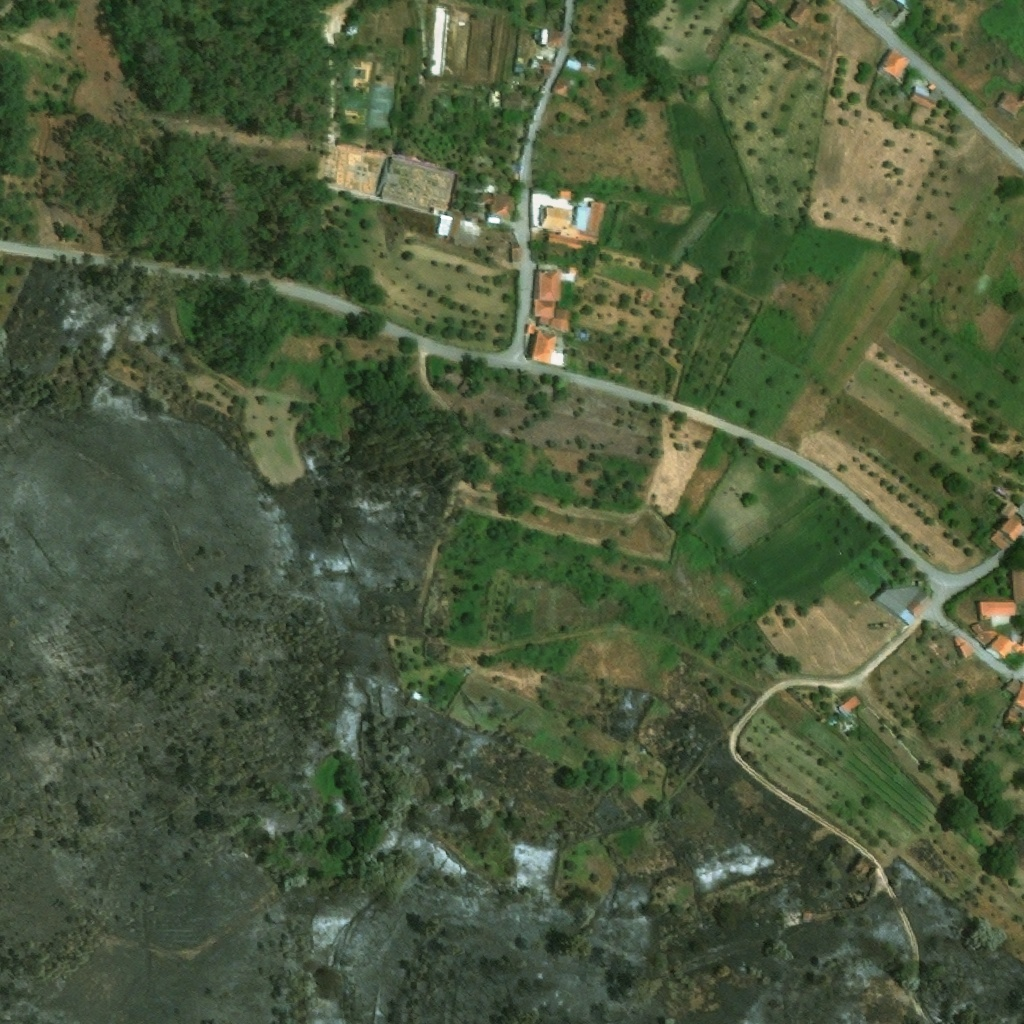0 no-damage: (540, 205, 602, 244), (533, 270, 571, 332), (873, 584, 926, 628), (528, 326, 566, 366), (1002, 677, 1023, 732), (484, 191, 518, 222), (986, 633, 1023, 661), (880, 49, 912, 81), (979, 601, 1017, 627), (549, 234, 601, 253), (1000, 501, 1023, 542), (891, 0, 920, 30), (909, 587, 936, 618), (998, 93, 1023, 122), (971, 623, 998, 648), (589, 202, 606, 238), (553, 74, 577, 99), (790, 0, 814, 24), (991, 529, 1015, 553), (839, 694, 864, 717), (447, 211, 468, 237), (504, 89, 525, 111), (911, 93, 937, 109), (956, 640, 975, 660), (1012, 569, 1023, 603), (548, 30, 565, 49), (488, 89, 503, 108), (565, 58, 583, 73), (914, 85, 932, 99), (344, 23, 359, 38), (512, 247, 525, 263), (536, 29, 549, 44), (466, 212, 481, 224), (562, 272, 577, 282), (559, 190, 573, 200), (543, 68, 553, 79), (531, 60, 542, 69), (514, 65, 526, 71), (929, 84, 937, 91), (582, 333, 589, 339)
3 destroyed: (852, 856, 880, 883), (787, 909, 810, 926), (412, 689, 424, 702)
4 un-classified: (821, 714, 844, 732), (865, 0, 882, 10), (653, 356, 665, 368), (767, 0, 781, 6)
